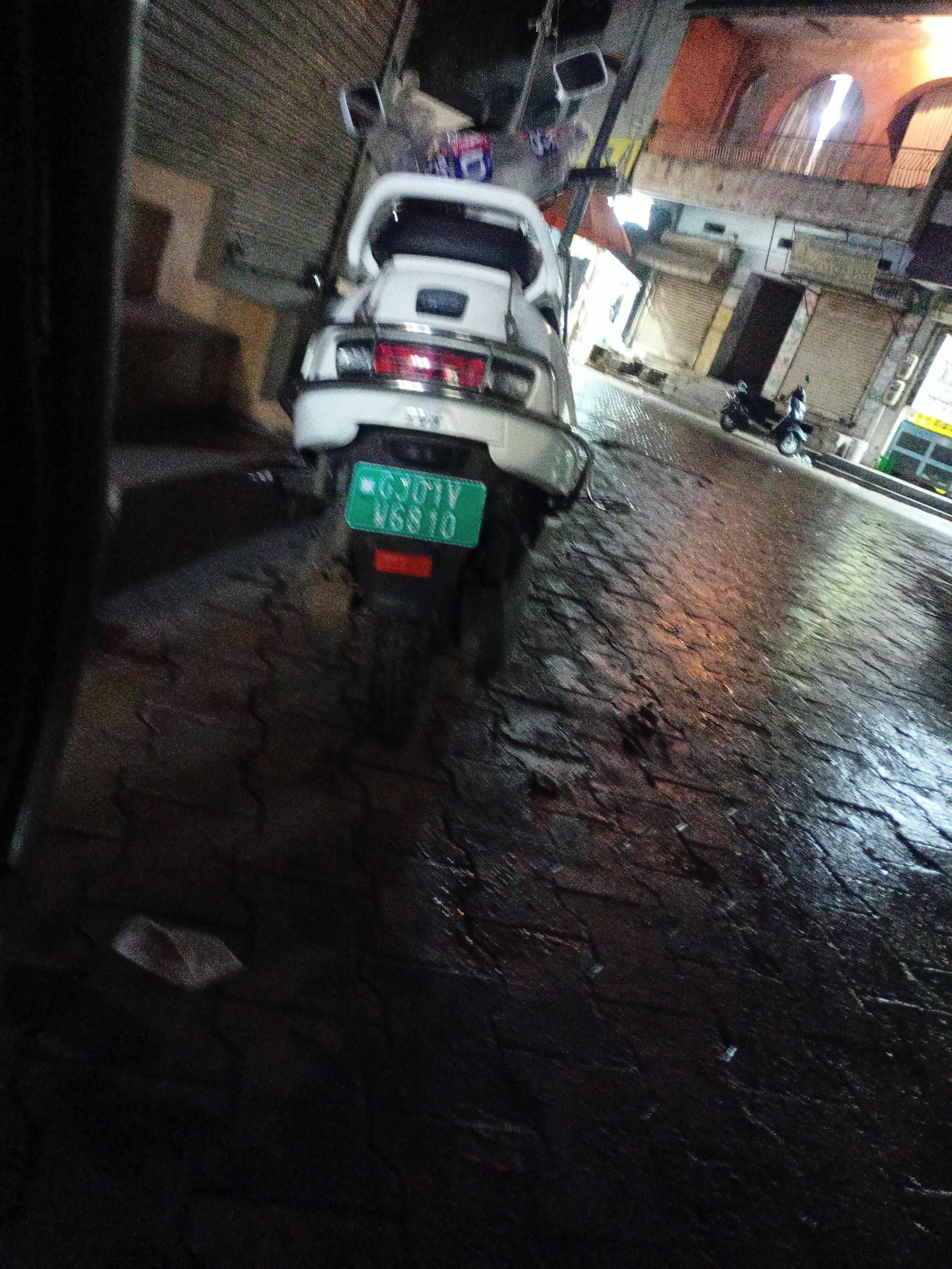green license plate: (336, 453, 487, 557)
